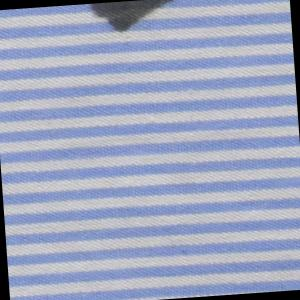Stain: (86, 1, 179, 41)
